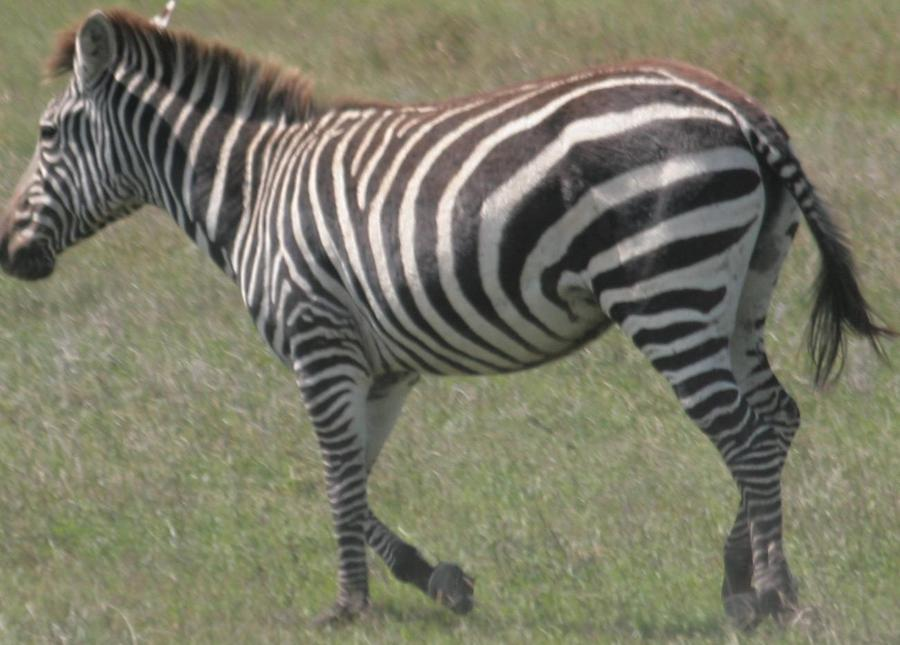zebra_plains: (190, 70, 794, 402)
